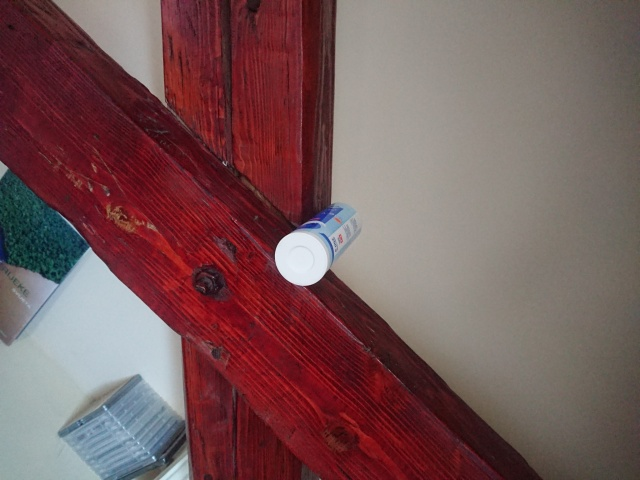Solana Pag Fine Sea Salt 250g: (271, 201, 364, 289)
